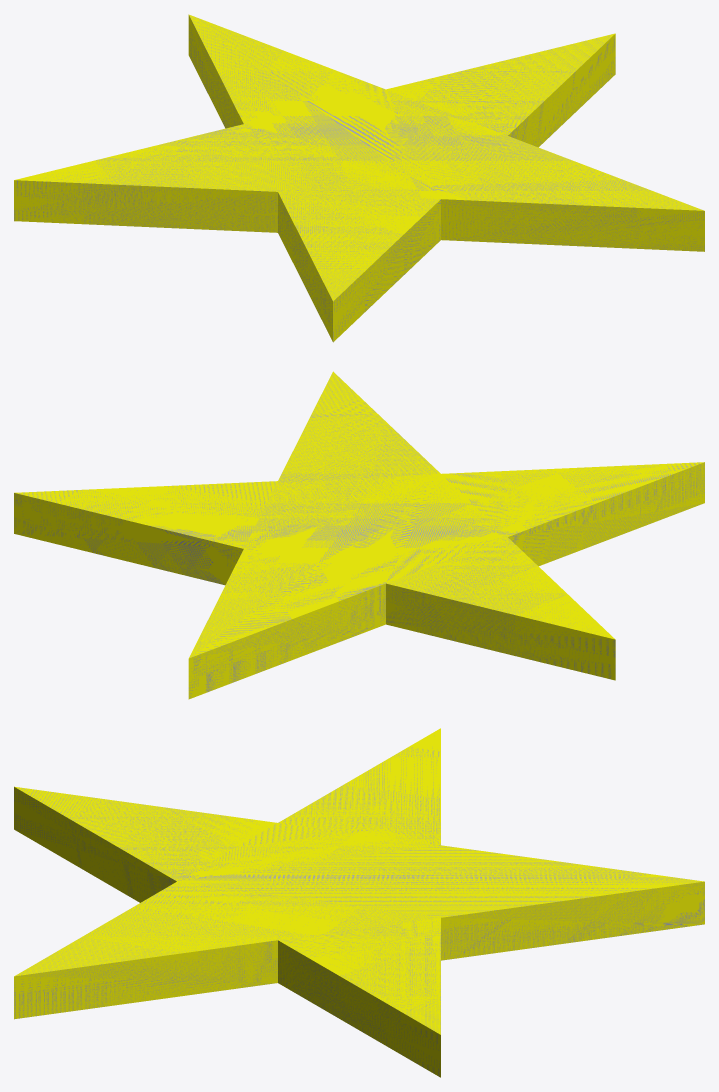
Rendered from star.fbx.
The picture shows the model from 3 angles, top to bottom: view 1: azimuth 30°, elevation 25°; view 2: azimuth 150°, elevation 25°; view 3: azimuth 270°, elevation 25°; orthographic projection. The views are drawn at different scales.
Visible parts, largest first — view 1: Model; view 2: Model; view 3: Model.
Part boxes in pixels (bbox=[...]): Model: bbox=[14, 14, 704, 342]; Model: bbox=[14, 371, 704, 699]; Model: bbox=[14, 728, 704, 1077].
Size of the model in its own units: 223 by 14.5 by 212.
